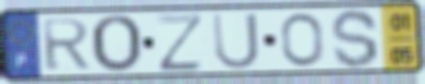O: (88, 13, 145, 75), (278, 12, 327, 69)
R: (39, 17, 93, 73)
S: (329, 7, 381, 70)
U: (209, 11, 263, 72)
Z: (154, 12, 206, 74)
